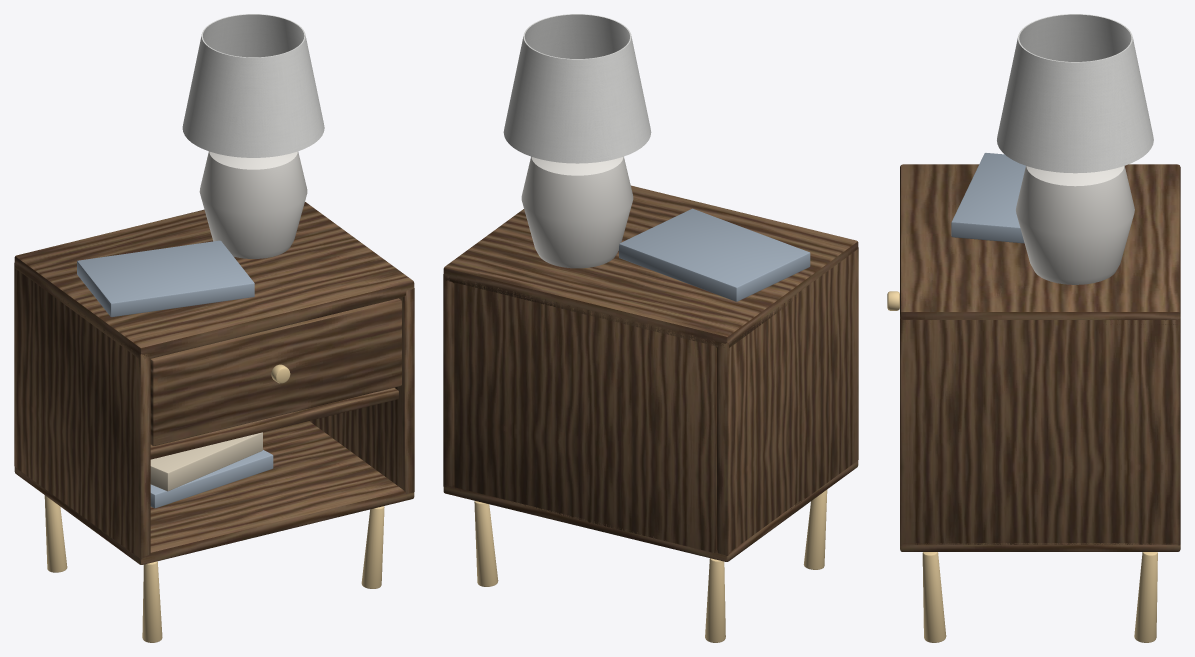
Rendered from velador-nogal-v2.gltf.
3 views of the same model, side by side, from view 1: azimuth 30°, elevation 25°; view 2: azimuth 150°, elevation 25°; view 3: azimuth 270°, elevation 25° (orthographic). The views are drawn at different scales.
Parts seen in each view (by area): view 1: velador-nogal__w_nogal_x, velador-nogal__w_nogal, velador-nogal__f_algodon, velador-nogal__p_libro1, velador-nogal__c_mate, velador-nogal__m_laton, velador-nogal__p_libro2; view 2: velador-nogal__w_nogal, velador-nogal__w_nogal_x, velador-nogal__f_algodon, velador-nogal__p_libro1, velador-nogal__c_mate, velador-nogal__m_laton; view 3: velador-nogal__w_nogal, velador-nogal__w_nogal_x, velador-nogal__f_algodon, velador-nogal__c_mate, velador-nogal__p_libro1, velador-nogal__m_laton.
Part boxes in pixels (<box>): velador-nogal__w_nogal_x: <box>14,202,414,564</box>; velador-nogal__w_nogal: <box>14,262,414,559</box>; velador-nogal__f_algodon: <box>182,14,324,157</box>; velador-nogal__p_libro1: <box>77,240,273,508</box>; velador-nogal__c_mate: <box>199,151,307,258</box>; velador-nogal__m_laton: <box>44,364,384,642</box>; velador-nogal__p_libro2: <box>150,432,262,491</box>; velador-nogal__w_nogal: <box>443,247,858,555</box>; velador-nogal__w_nogal_x: <box>443,185,858,561</box>; velador-nogal__f_algodon: <box>503,14,651,163</box>; velador-nogal__p_libro1: <box>619,208,810,301</box>; velador-nogal__c_mate: <box>521,156,633,268</box>; velador-nogal__m_laton: <box>474,489,827,642</box>; velador-nogal__w_nogal: <box>900,318,1180,545</box>; velador-nogal__w_nogal_x: <box>900,164,1180,551</box>; velador-nogal__f_algodon: <box>997,14,1153,173</box>; velador-nogal__c_mate: <box>1016,166,1134,284</box>; velador-nogal__p_libro1: <box>951,153,1025,243</box>; velador-nogal__m_laton: <box>887,291,1157,642</box>.
Size of the model in its own units: 0.5 by 0.8985 by 0.418.
Materials: 8 (3 with a texture image).
